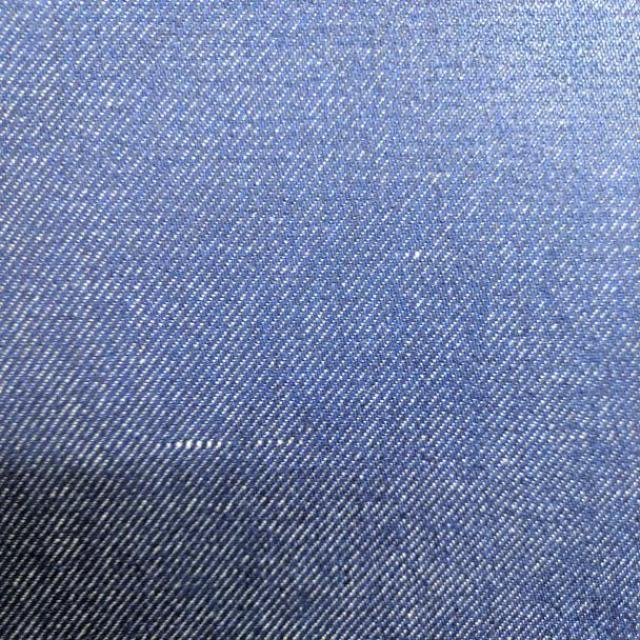Knot: (166, 439, 232, 451)
